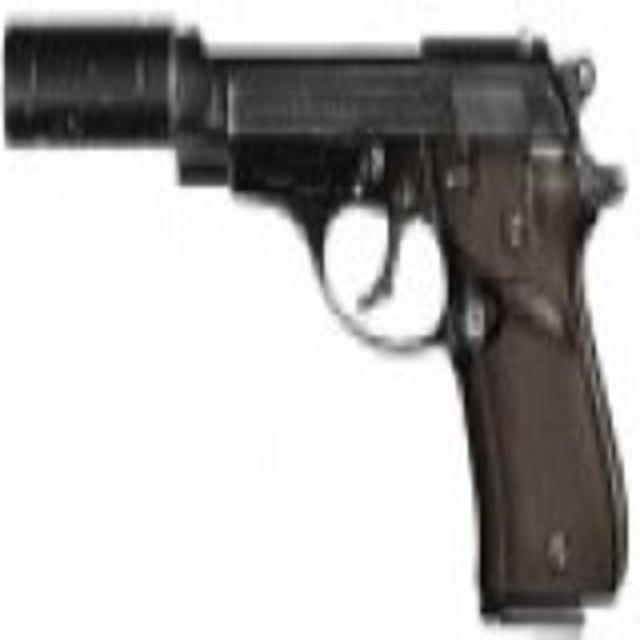pistol: (4, 15, 628, 624)
